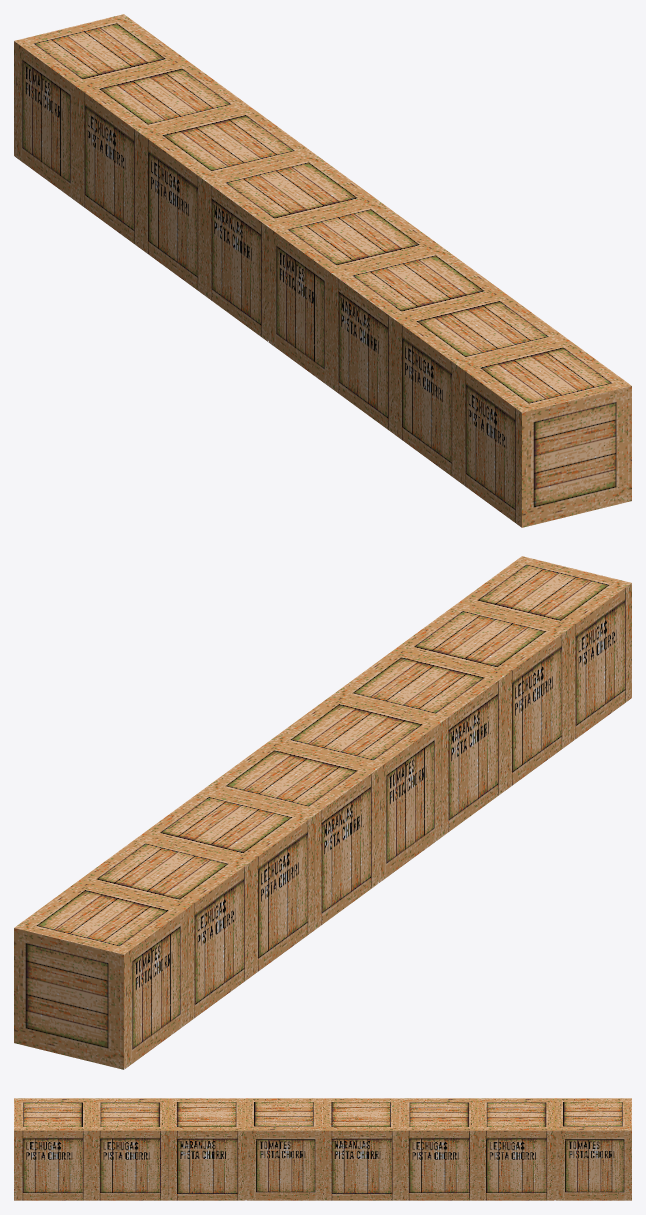
File: CajasLineaVariada-8x1x1.fbx
The picture shows the model from 3 angles, top to bottom: view 1: azimuth 30°, elevation 25°; view 2: azimuth 150°, elevation 25°; view 3: azimuth 270°, elevation 25°; orthographic projection. The views are drawn at different scales.
Parts seen in each view (by area): view 1: CajasLineaVariada-8x1x1; view 2: CajasLineaVariada-8x1x1; view 3: CajasLineaVariada-8x1x1.
Boxes of the visible parts, x1,y1,x2,y2 form: CajasLineaVariada-8x1x1: (14,14,631,527); CajasLineaVariada-8x1x1: (14,556,631,1069); CajasLineaVariada-8x1x1: (14,1098,631,1200).
Bounding box in the file's own units: 1 × 1 × 8.
